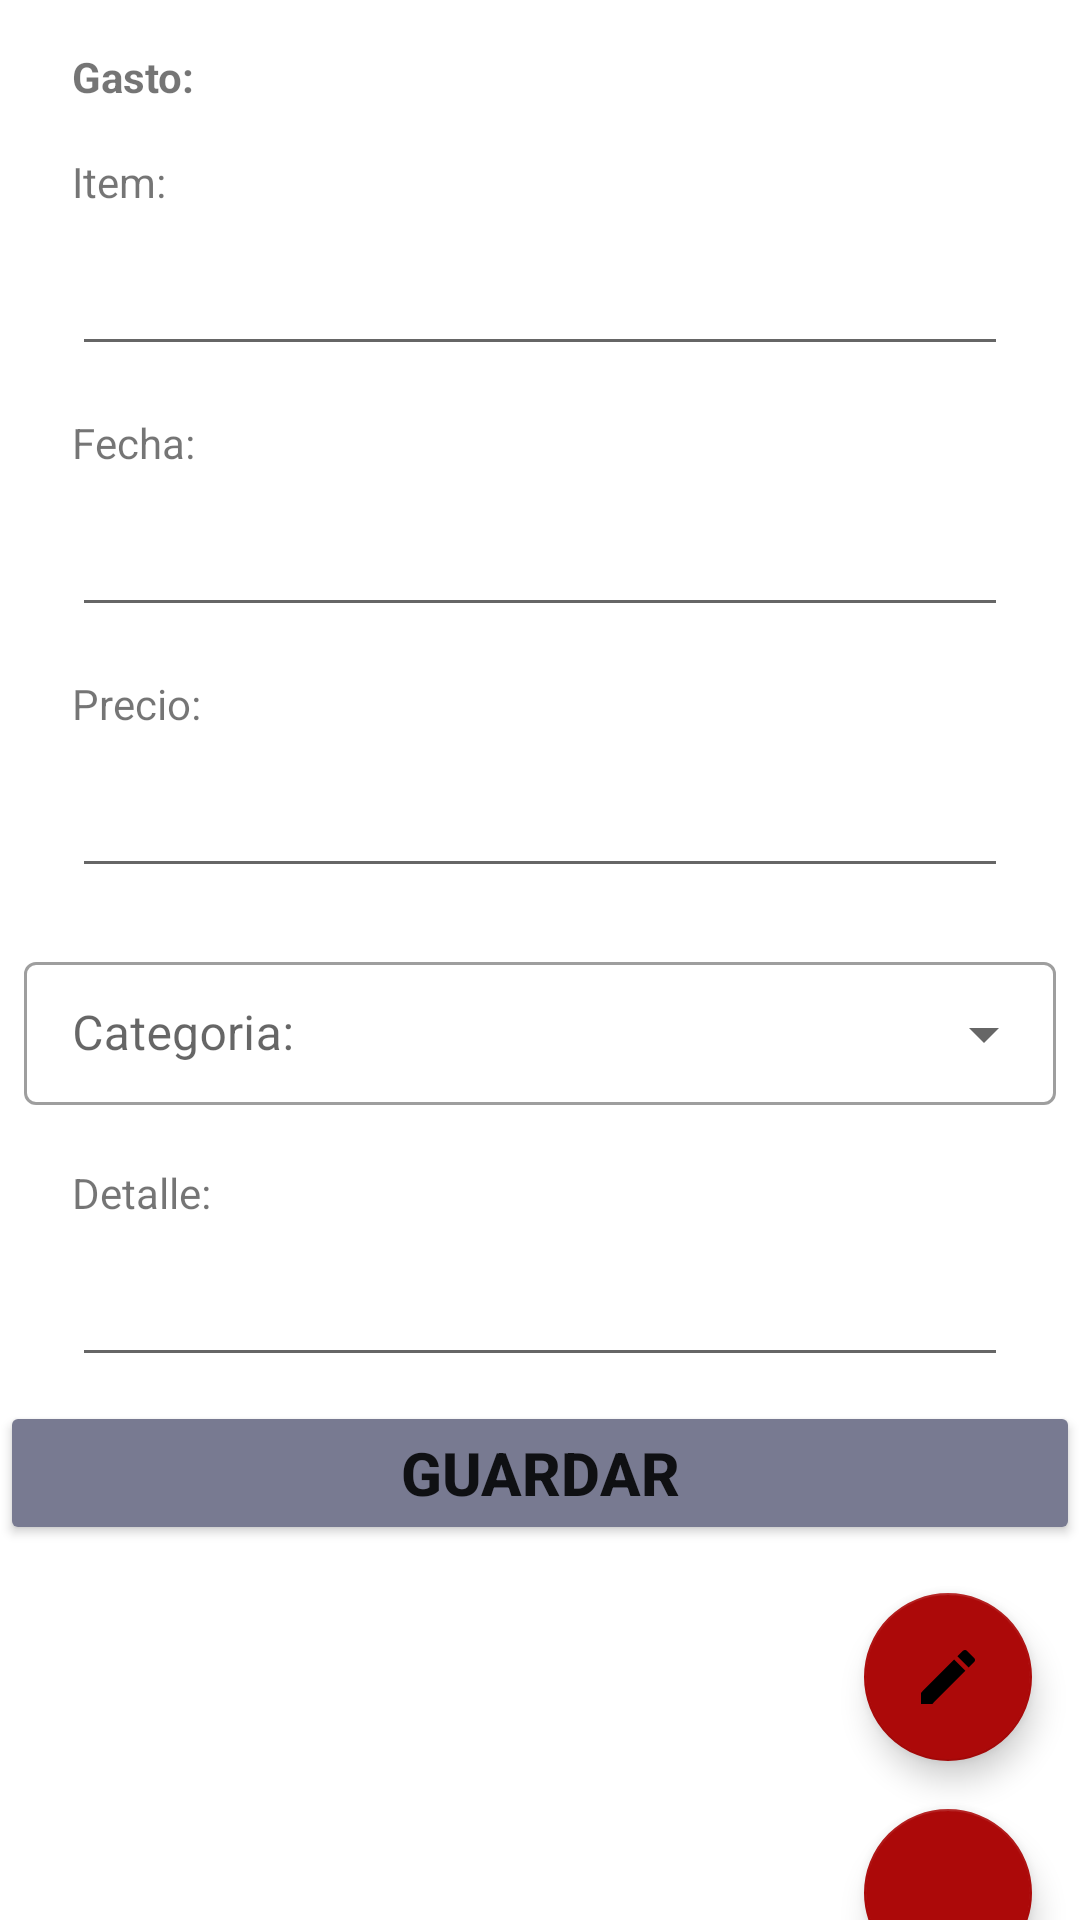

Icons on this 1080w x 1920h Android screen, each with the point to tap as (x=x, y=y):
edit: (x=948, y=1677)
